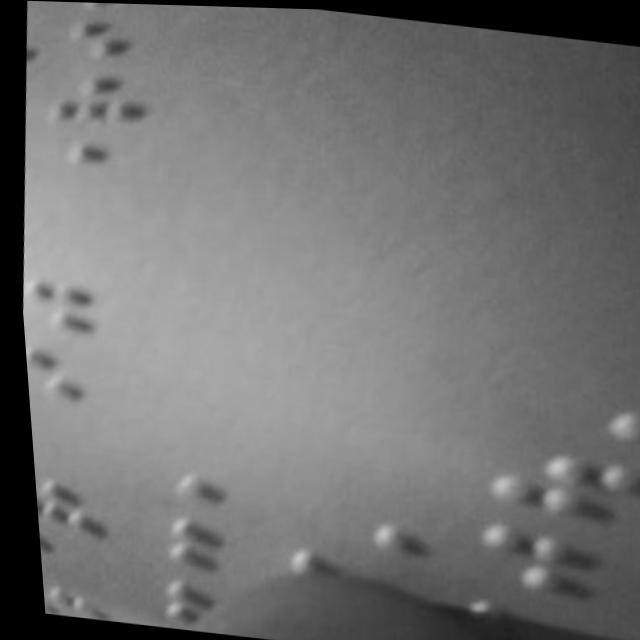braiile: (467, 432, 640, 528), (459, 514, 639, 604), (53, 7, 198, 82), (18, 130, 150, 207), (16, 275, 135, 348), (38, 68, 160, 137), (20, 342, 132, 416), (27, 464, 108, 534)
